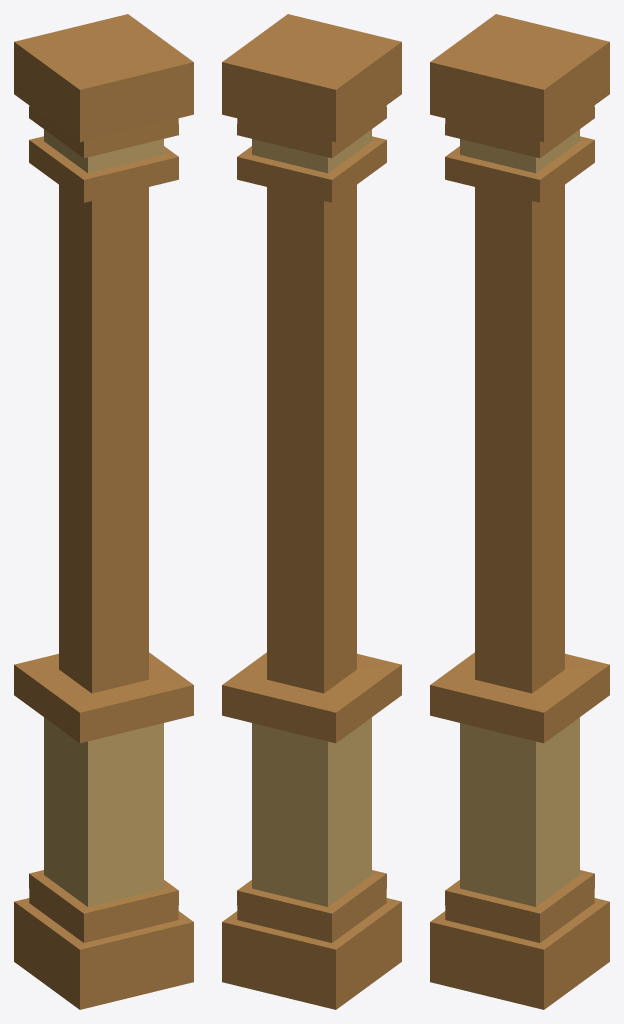
File: column.fbx
3 renders of one model, left to right at view 1: azimuth 30°, elevation 25°; view 2: azimuth 150°, elevation 25°; view 3: azimuth 330°, elevation 25°, orthographic.
Visible parts, largest first — view 1: Column; view 2: Column; view 3: Column.
Part boxes in pixels (x1,y1,x2,y2): Column: [14, 14, 193, 1009]; Column: [222, 14, 401, 1009]; Column: [430, 14, 609, 1009].
Size of the model in its own units: 40.2 by 310 by 40.2.
